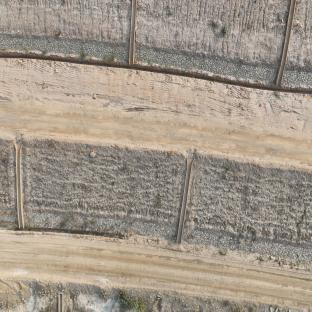rock_toe: (23, 208, 178, 245), (134, 47, 278, 85), (184, 226, 312, 264), (0, 33, 129, 62), (282, 71, 312, 87), (0, 207, 18, 224)
slope_drain: (276, 0, 296, 86), (176, 159, 195, 245), (14, 143, 24, 228), (129, 0, 137, 65)
toe_drain: (0, 52, 312, 97), (0, 224, 190, 253)
